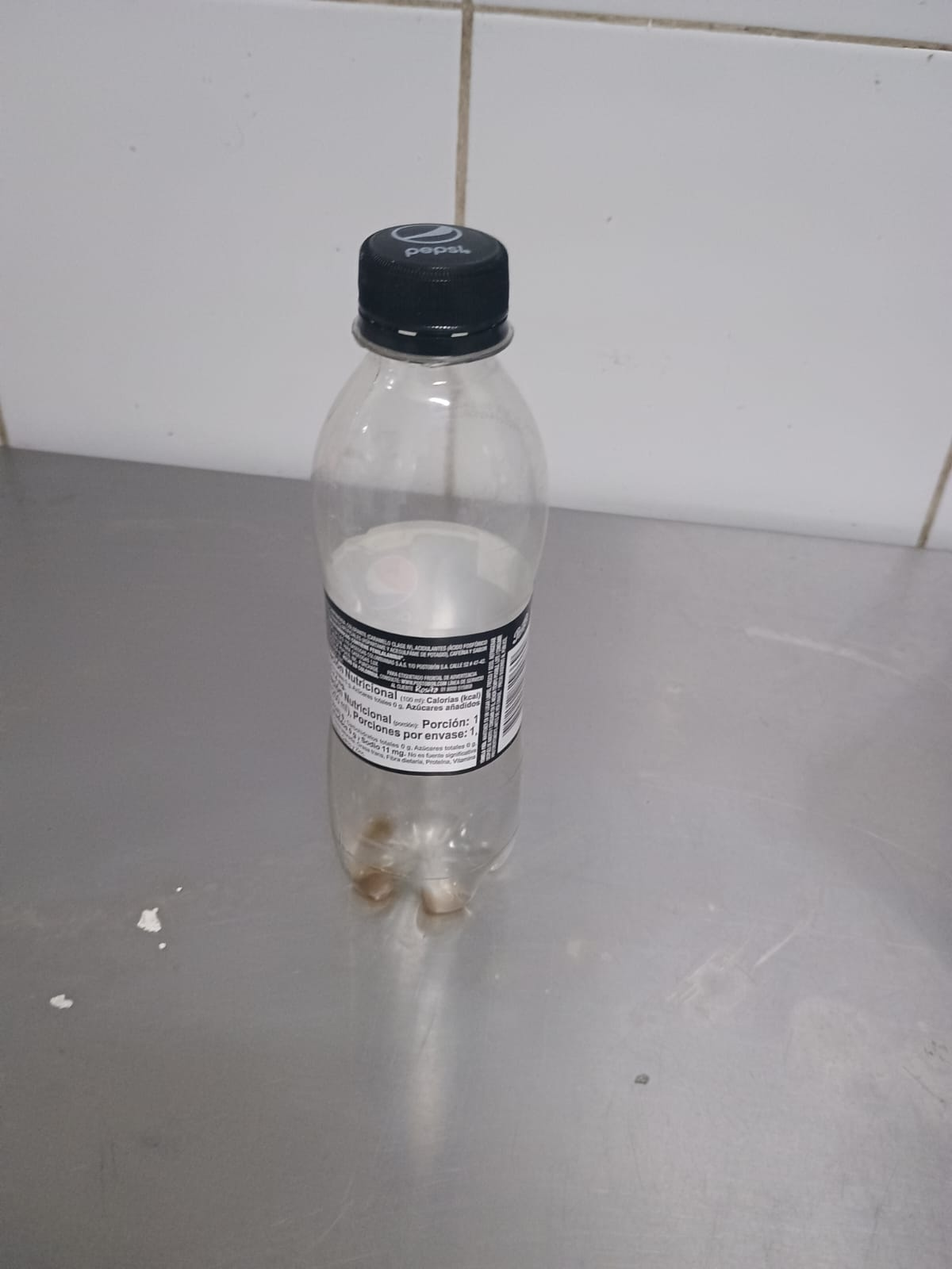Plastico: (310, 225, 552, 919)
